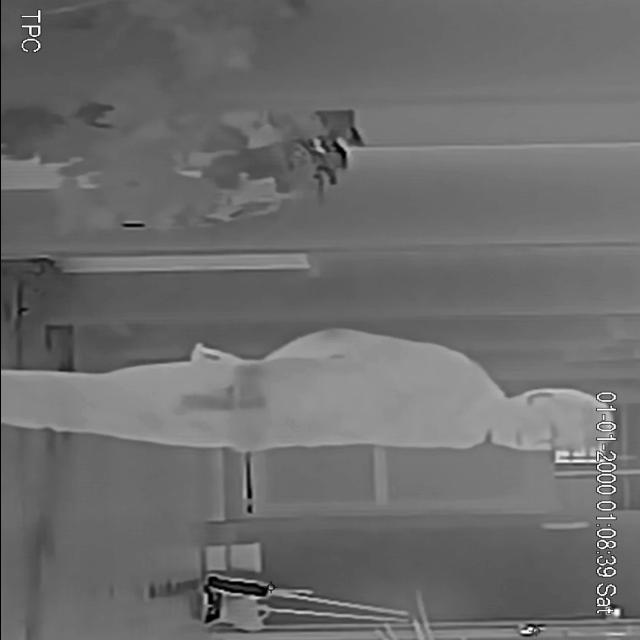Weapon: (171, 363, 271, 430)
